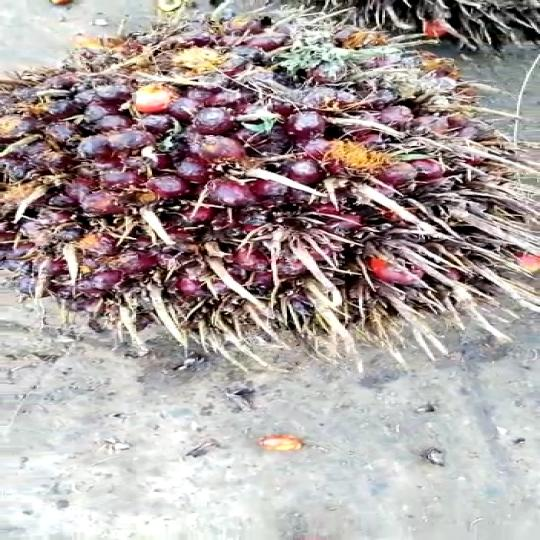masak: (0, 0, 540, 379)
